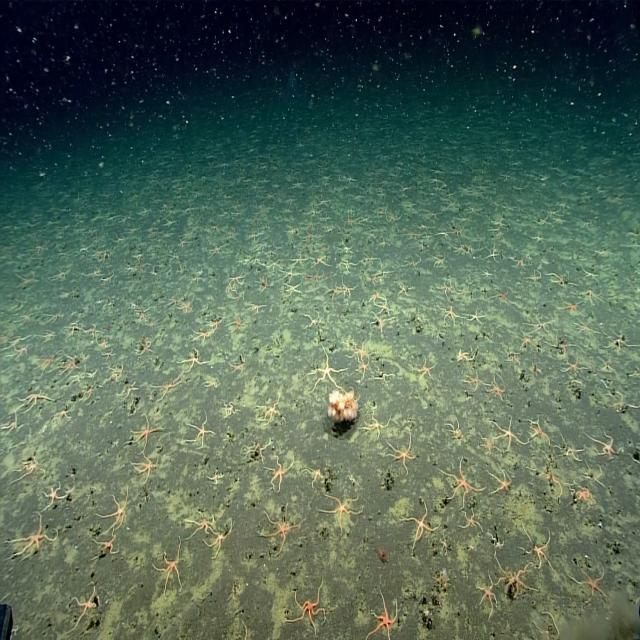brittle-stars: (15, 516, 57, 558), (443, 458, 479, 506), (291, 584, 325, 632), (520, 526, 554, 574), (154, 544, 184, 594), (320, 491, 358, 528), (312, 348, 343, 390), (260, 510, 298, 544), (575, 566, 608, 603), (403, 504, 434, 543), (370, 596, 398, 639), (72, 584, 99, 624), (100, 494, 130, 530), (492, 415, 520, 452), (129, 417, 163, 447), (266, 456, 294, 492), (500, 566, 530, 598), (389, 436, 416, 470), (588, 429, 616, 461), (42, 479, 70, 508), (131, 452, 158, 482), (205, 524, 232, 554), (487, 466, 514, 496), (478, 577, 497, 617), (156, 373, 182, 401), (187, 416, 211, 446), (94, 530, 120, 557), (21, 389, 50, 413), (260, 396, 283, 426), (364, 409, 389, 436), (557, 436, 582, 463), (186, 511, 214, 533), (527, 314, 553, 337), (465, 368, 486, 396), (20, 454, 43, 479), (487, 372, 507, 400), (180, 350, 206, 370), (530, 419, 550, 444), (574, 482, 593, 508), (562, 356, 587, 374), (414, 358, 434, 380), (440, 304, 460, 326), (559, 297, 581, 317), (462, 510, 480, 533), (351, 341, 371, 361), (456, 344, 476, 364), (36, 354, 56, 373), (54, 406, 73, 426), (227, 314, 246, 334), (518, 330, 537, 350), (548, 269, 568, 288), (338, 256, 357, 275), (585, 286, 603, 306), (480, 433, 496, 455), (192, 328, 211, 346), (339, 280, 356, 300), (575, 322, 596, 338), (63, 352, 78, 374), (492, 286, 509, 305), (434, 280, 454, 296), (140, 335, 154, 357), (282, 281, 300, 298), (465, 310, 484, 326), (179, 296, 194, 316), (356, 359, 371, 379), (376, 299, 392, 317), (223, 398, 237, 418), (448, 224, 466, 239), (456, 284, 472, 300), (308, 268, 323, 285), (210, 241, 224, 259), (488, 243, 500, 264), (291, 253, 306, 269), (397, 281, 410, 299), (267, 256, 281, 272), (282, 268, 300, 280), (439, 533, 449, 554), (102, 346, 115, 362), (98, 338, 110, 351)
